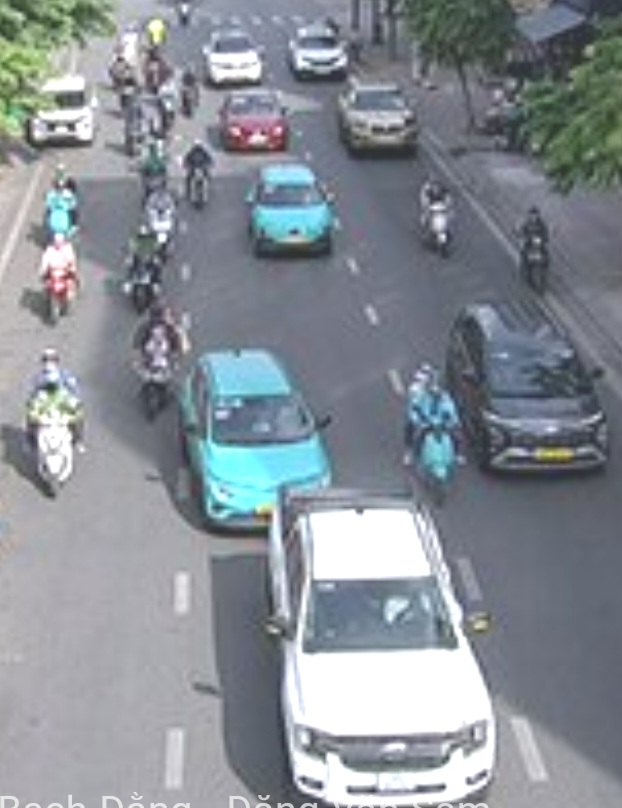car: (273, 494, 502, 800), (451, 303, 611, 478), (185, 345, 334, 521), (244, 164, 336, 254), (336, 83, 420, 156), (218, 92, 290, 155), (31, 78, 97, 146), (288, 26, 349, 81), (206, 31, 264, 86)
